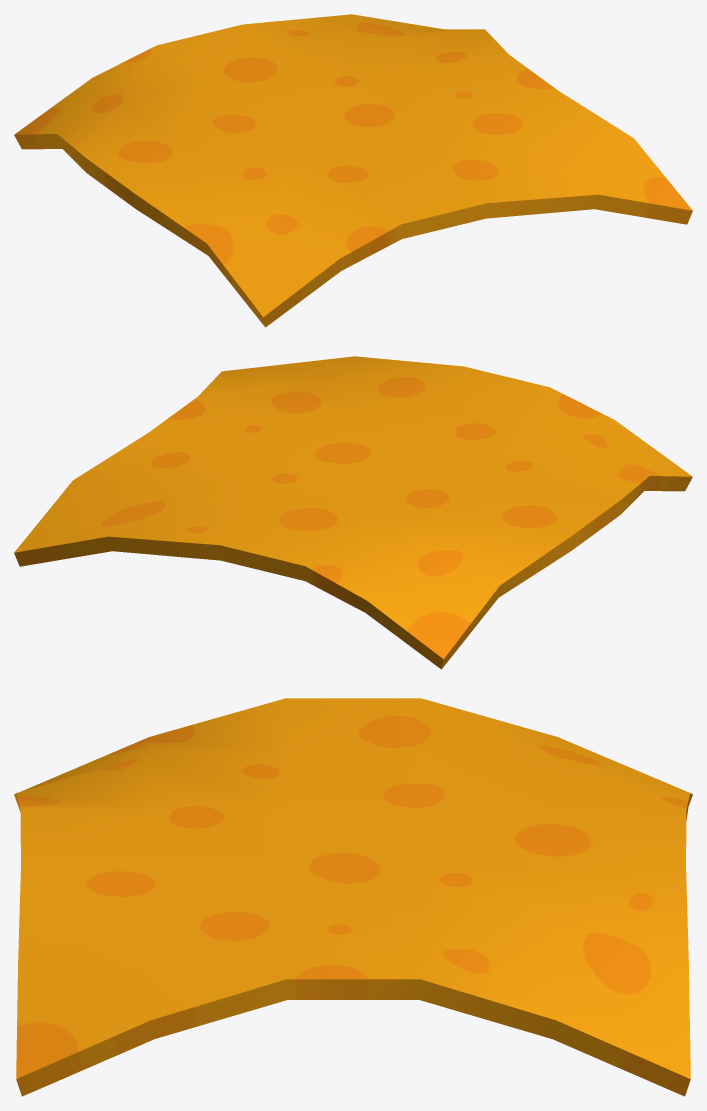
Rendered from Cheese.obj.
3 renders of one model, top to bottom at view 1: azimuth 30°, elevation 25°; view 2: azimuth 150°, elevation 25°; view 3: azimuth 270°, elevation 25°, orthographic. The views are drawn at different scales.
Parts seen in each view (by area): view 1: polySurface21 polySurface16; view 2: polySurface21 polySurface16; view 3: polySurface21 polySurface16.
Part boxes in pixels (box(x1,y1,x2,y2)): polySurface21 polySurface16: box(14, 14, 692, 327); polySurface21 polySurface16: box(14, 356, 692, 669); polySurface21 polySurface16: box(14, 698, 692, 1096).
Bounding box in the file's own units: 1.78 × 0.2632 × 1.68.
Materials: 1 (1 with a texture image).
